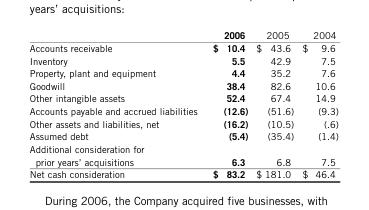table: (28, 29, 337, 179)
table column: (28, 29, 204, 179), (204, 29, 251, 179), (251, 29, 297, 179), (297, 29, 337, 179)
table column header: (28, 29, 337, 41)
table row: (28, 142, 337, 167), (28, 53, 337, 66), (28, 66, 337, 79), (28, 91, 337, 104), (28, 116, 337, 129), (28, 129, 337, 142), (28, 29, 337, 41), (28, 41, 337, 53), (28, 79, 337, 91), (28, 104, 337, 116), (28, 167, 337, 179)
